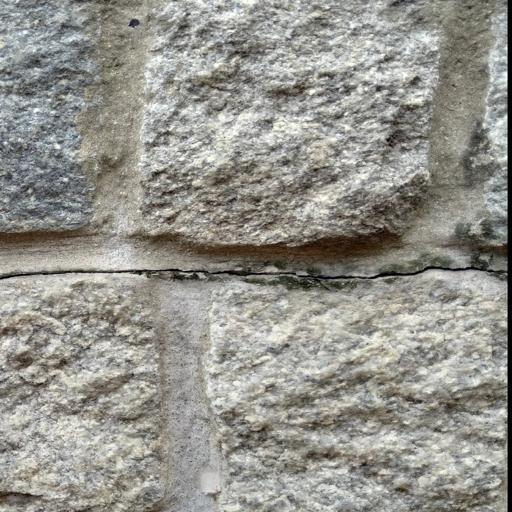minor_crack: (0, 248, 512, 294)
